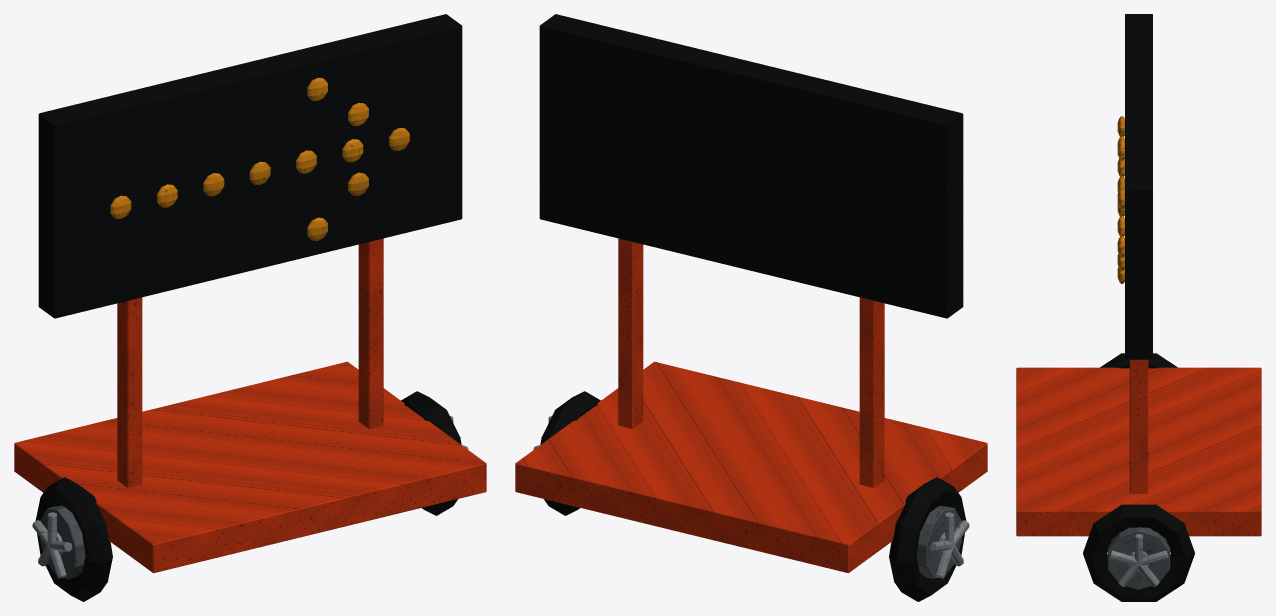
Rendered from PROP-6F830F9B52DC_lod1.glb.
The picture shows the model from 3 angles, left to right: view 1: azimuth 30°, elevation 25°; view 2: azimuth 150°, elevation 25°; view 3: azimuth 270°, elevation 25°; orthographic projection. The views are drawn at different scales.
Parts seen in each view (by area): view 1: arrow_board.001, trailer_chassis.001, arrow_board_legs.001, tire.001, arrow_bulbs.001, rim.001, arrow_head_bulbs.001, rim_spokes.001; view 2: arrow_board.001, trailer_chassis.001, arrow_board_legs.001, tire.001, rim.001, rim_spokes.001; view 3: trailer_chassis.001, arrow_board.001, tire.001, arrow_board_legs.001, rim.001, rim_spokes.001, arrow_bulbs.001, arrow_head_bulbs.001.
Part boxes in pixels (x1,y1,x2,y2): arrow_board.001: [38, 14, 462, 318]; trailer_chassis.001: [14, 361, 486, 573]; arrow_board_legs.001: [117, 238, 383, 487]; tire.001: [35, 391, 461, 601]; arrow_bulbs.001: [110, 127, 409, 218]; rim.001: [40, 505, 85, 578]; arrow_head_bulbs.001: [307, 77, 368, 240]; rim_spokes.001: [32, 416, 468, 578]; arrow_board.001: [539, 14, 963, 318]; trailer_chassis.001: [515, 361, 987, 573]; arrow_board_legs.001: [618, 238, 884, 487]; tire.001: [540, 391, 966, 601]; rim.001: [916, 505, 961, 578]; rim_spokes.001: [533, 416, 969, 578]; trailer_chassis.001: [1016, 367, 1261, 536]; arrow_board.001: [1125, 14, 1152, 359]; tire.001: [1083, 353, 1194, 601]; arrow_board_legs.001: [1129, 359, 1148, 493]; rim.001: [1107, 527, 1170, 589]; rim_spokes.001: [1109, 534, 1168, 586]; arrow_bulbs.001: [1117, 116, 1124, 257]; arrow_head_bulbs.001: [1117, 139, 1124, 283].
Bounding box in the file's own units: 2.2 × 2.48 × 1.3.
6 materials, 6 textured.
